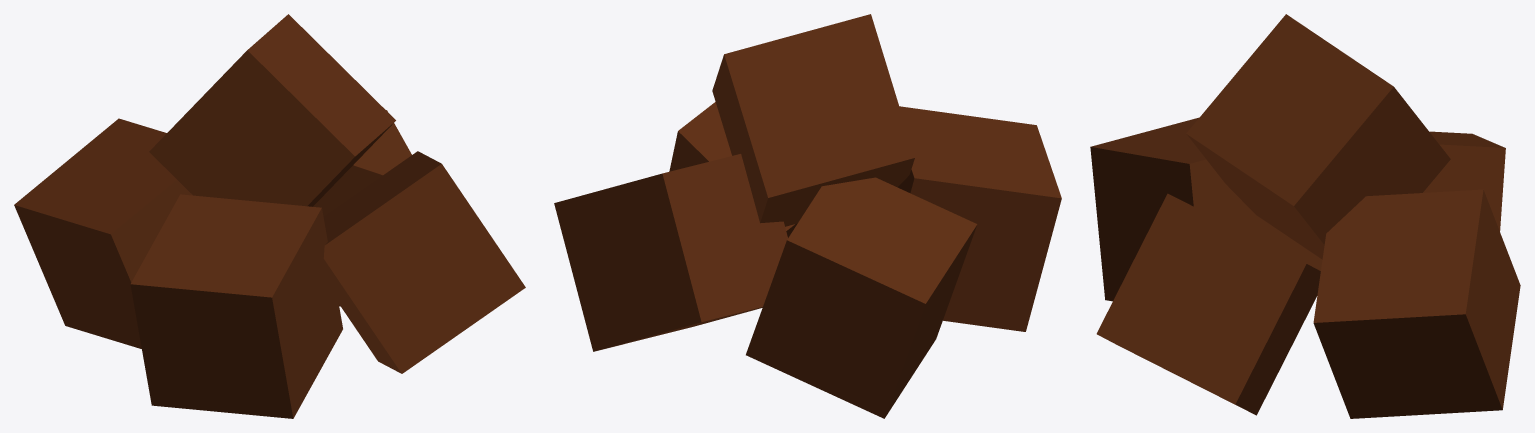
The model's file is stack-crush-iron-ore.glb.
3 views of the same model, side by side, from view 1: azimuth 30°, elevation 25°; view 2: azimuth 150°, elevation 25°; view 3: azimuth 270°, elevation 25° (orthographic). The views are drawn at different scales.
Parts seen in each view (by area): view 1: Cube.030; view 2: Cube.030; view 3: Cube.030.
Boxes of the visible parts, x1,y1,x2,y2 form: Cube.030: [14, 14, 525, 418]; Cube.030: [554, 14, 1061, 418]; Cube.030: [1090, 14, 1520, 418].
Size of the model in its own units: 2.4 by 1.98 by 2.25.
